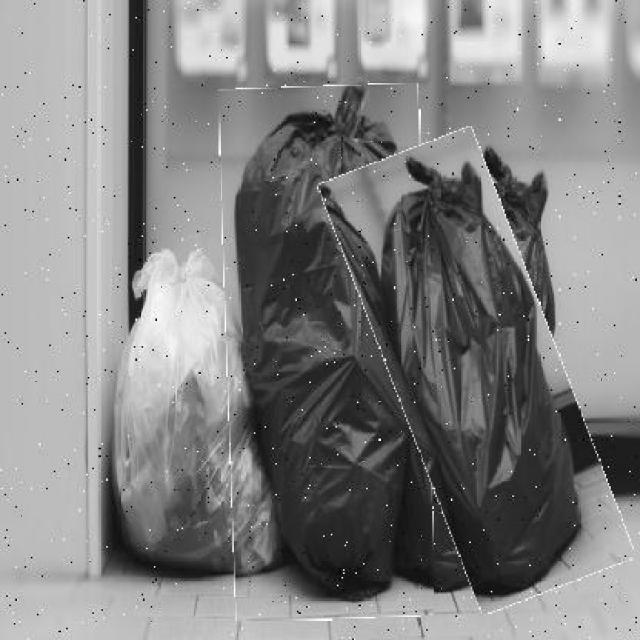waste: (356, 133, 596, 609), (223, 84, 432, 620)
